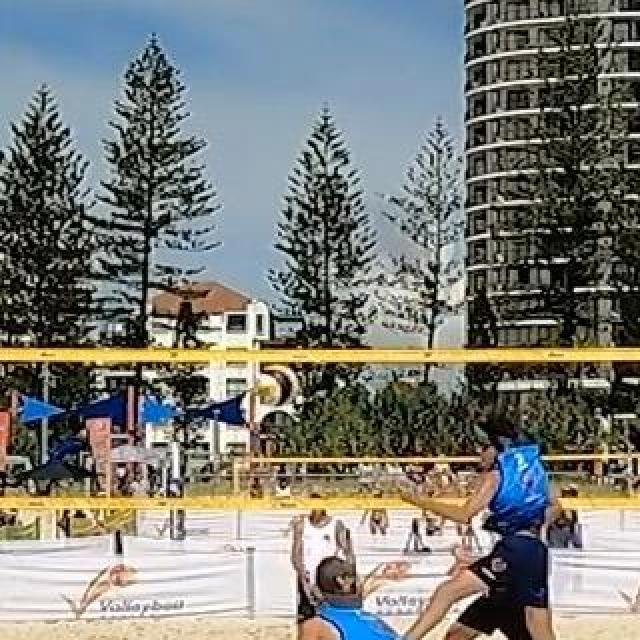volleyball: (254, 363, 298, 405)
